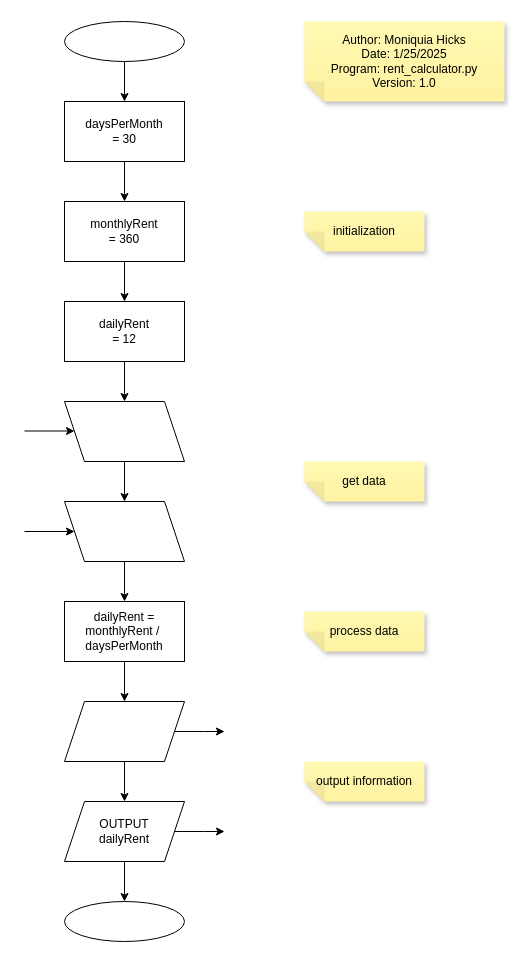
Image size: 528x959. Some labels were removed from this diagram. Each missing label, with the centre of its shape:
INPUT daysPerMonth: the point at 124,531
INPUT monthlyRent: the point at 124,431
OUTPUT monthlyRent: the point at 124,731
start: the point at 124,41
stop: the point at 124,921
